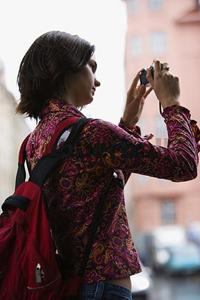person: (16, 31, 199, 298)
